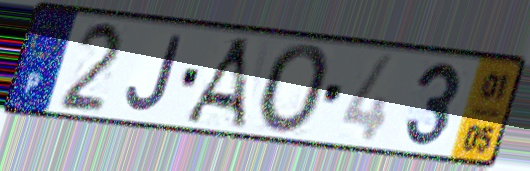2: (55, 19, 126, 118)
3: (401, 60, 465, 152)
4: (337, 52, 398, 146)
A: (181, 34, 254, 132)
J: (123, 33, 186, 115)
O: (254, 41, 335, 139)
